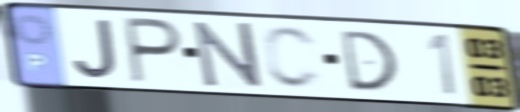1: (425, 31, 460, 99)
C: (260, 23, 325, 92)
D: (337, 28, 400, 93)
J: (70, 16, 120, 81)
N: (190, 20, 266, 90)
P: (122, 14, 186, 87)
